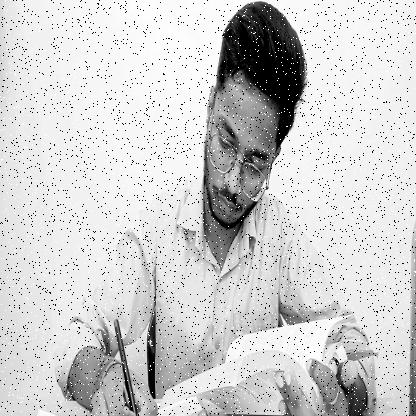Distracted: (198, 4, 306, 236)
